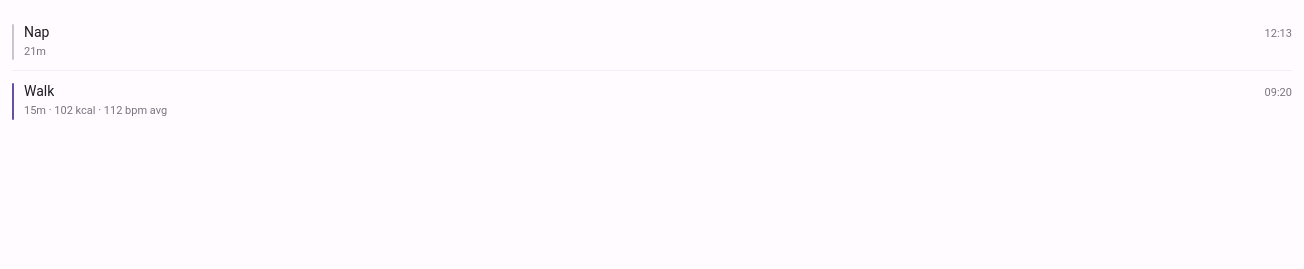
ActivityFeed › summarises the sleep stages in the drop-down, without the full split
Step 1. Click the text "Nap" → (37, 32), box [24,22,50,42]
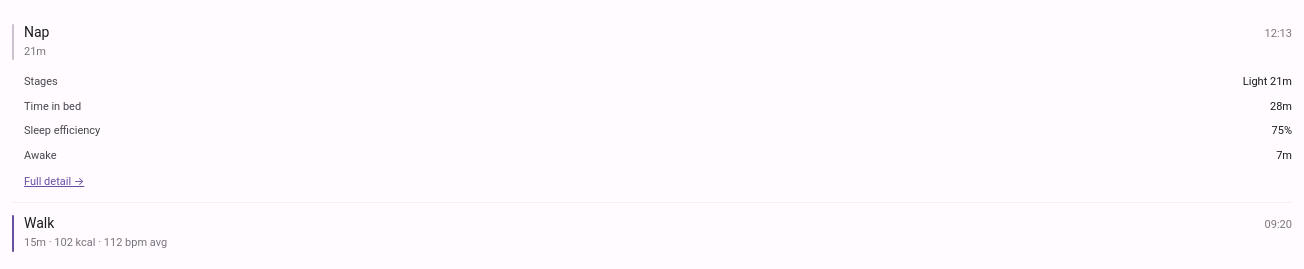
Now the text "Stages" is shown, box [24,74,58,91]
Now the text "Light 21m" is shown, box [1243,74,1292,91]
